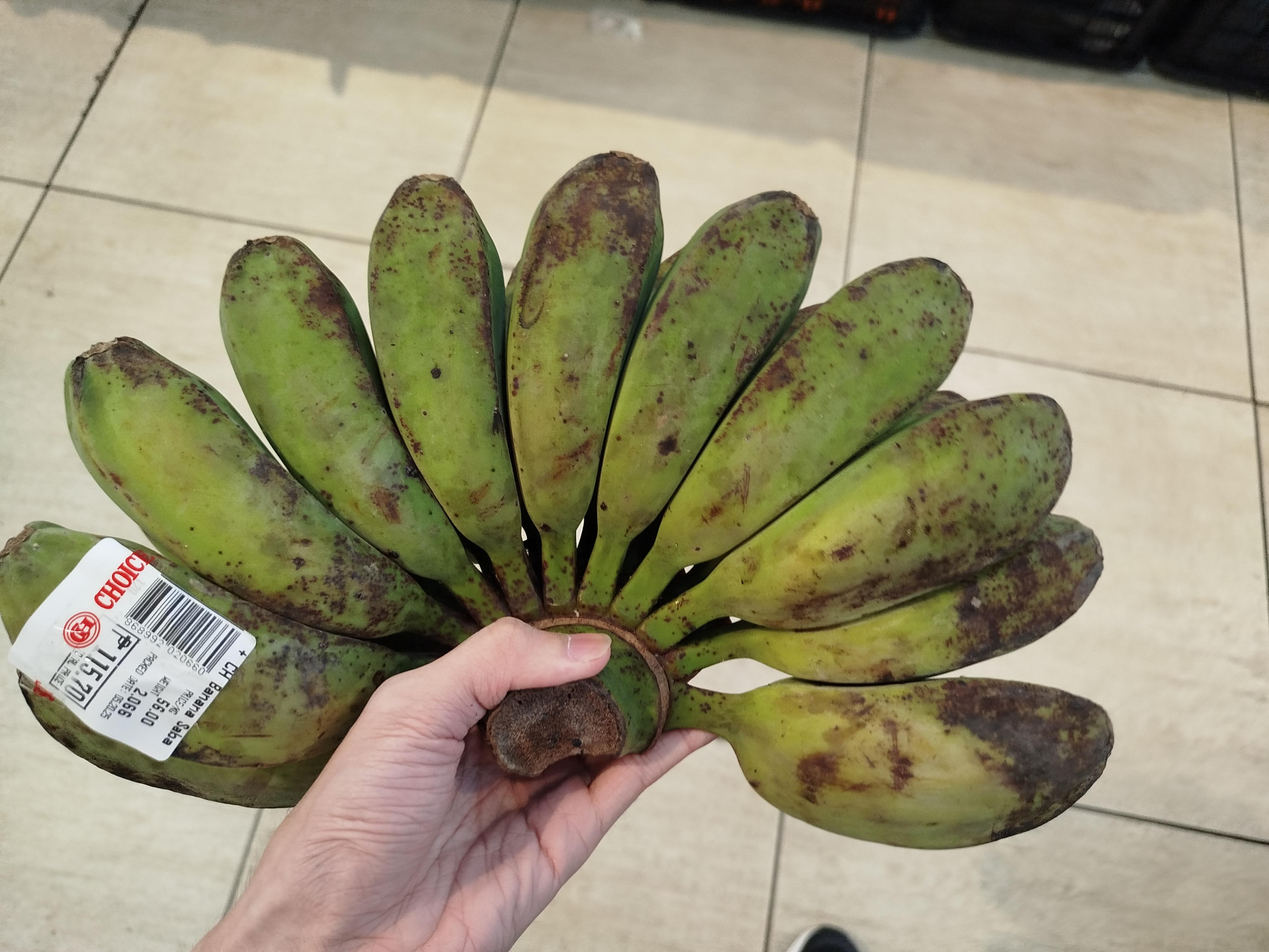underripe: (0, 151, 1113, 849)
